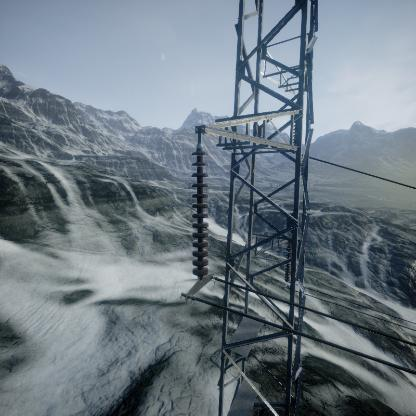insulator: (189, 143, 214, 278)
